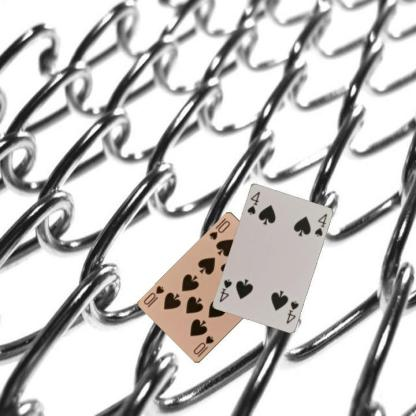10s: (191, 333, 215, 359), (206, 219, 231, 242)
4s: (244, 189, 262, 216), (284, 298, 300, 324)
